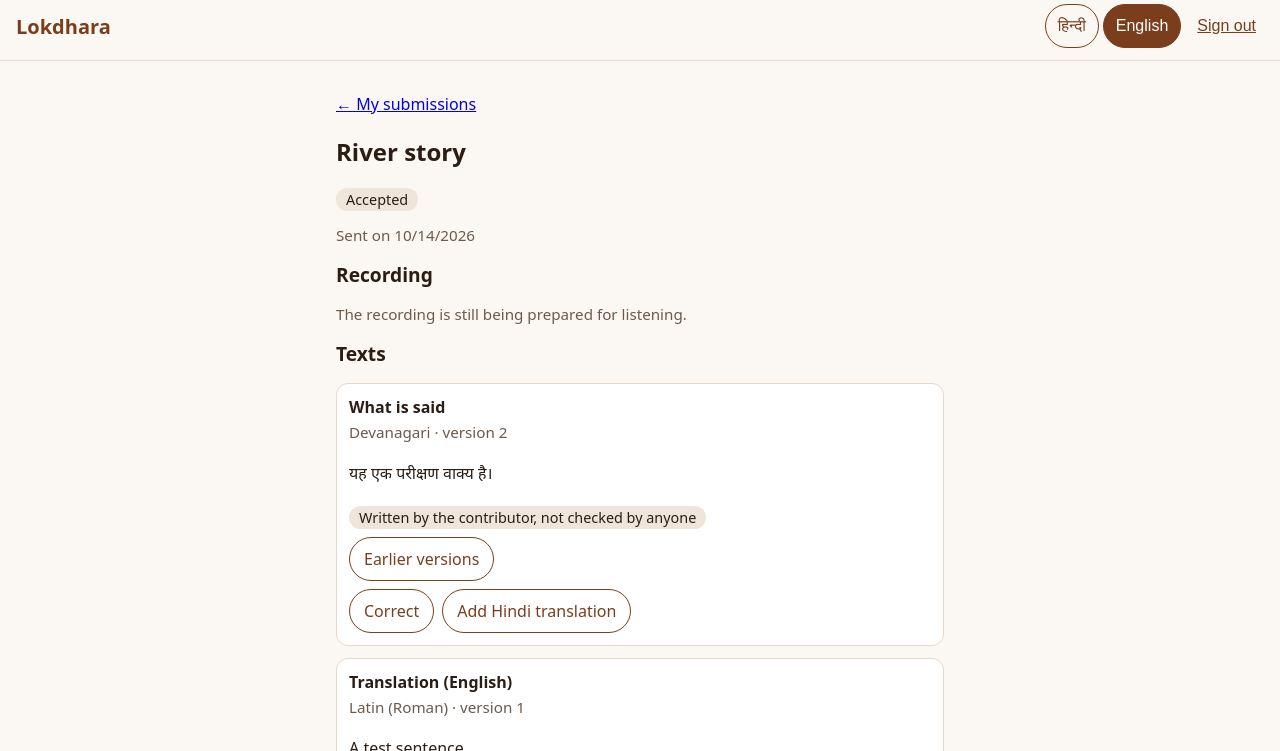
one submission › reloads when someone saved a newer version first
Click the button "Correct". click: (392, 611)
box: [349,589,434,633]
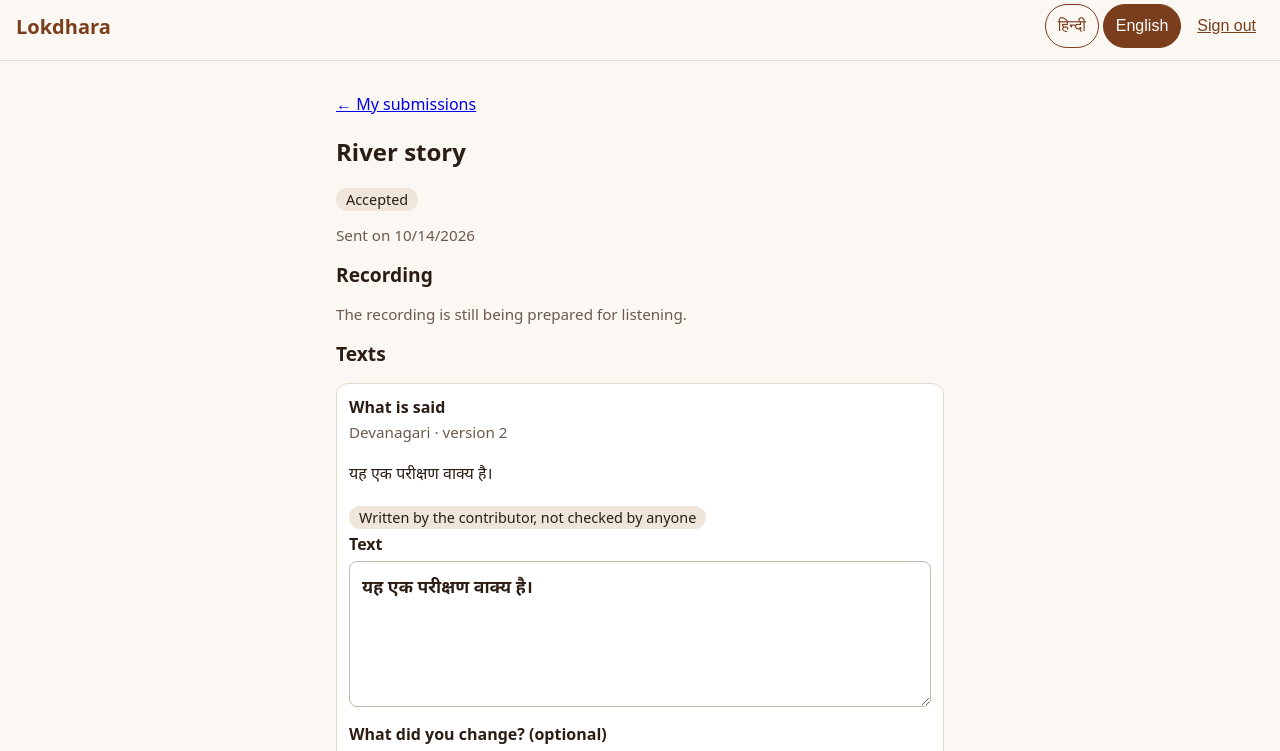
Type " और" into the text box labelled "Text". click: (640, 634)
box: [349,561,931,707]
(page scrolled)
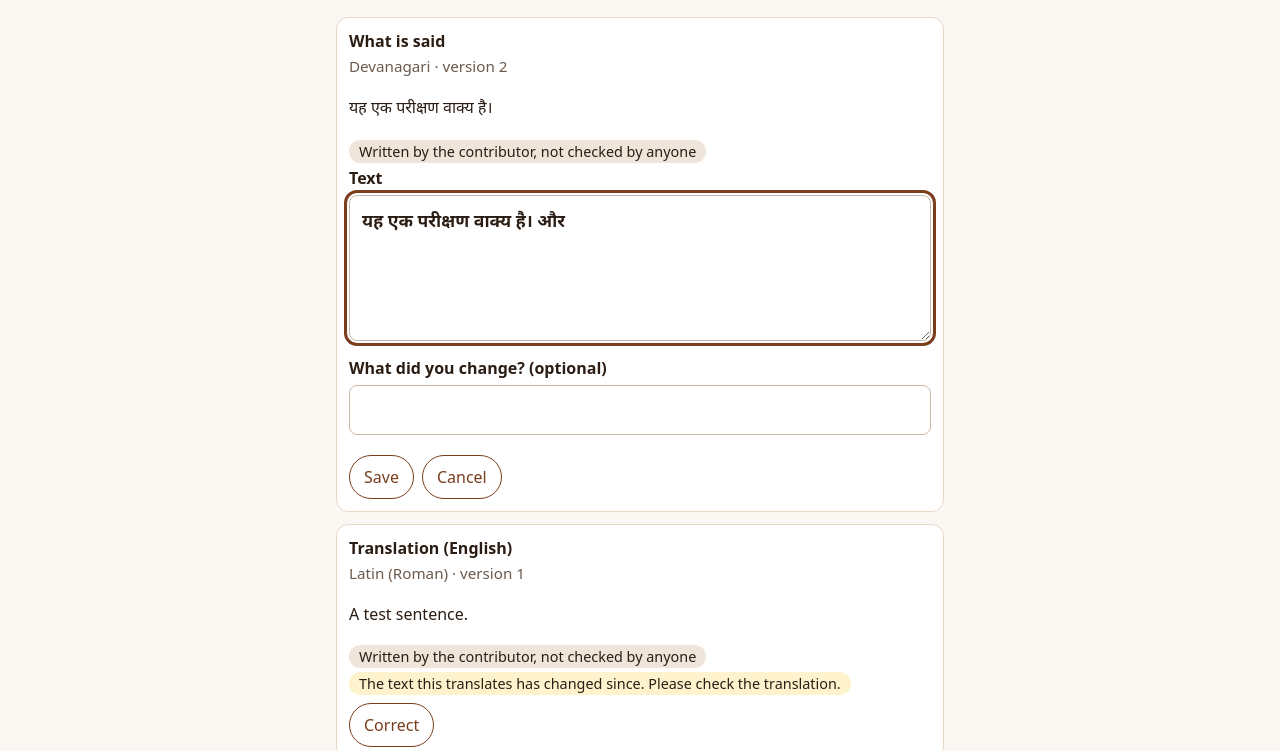
Click the button "Save". click: (381, 477)
box: [349,455,414,499]
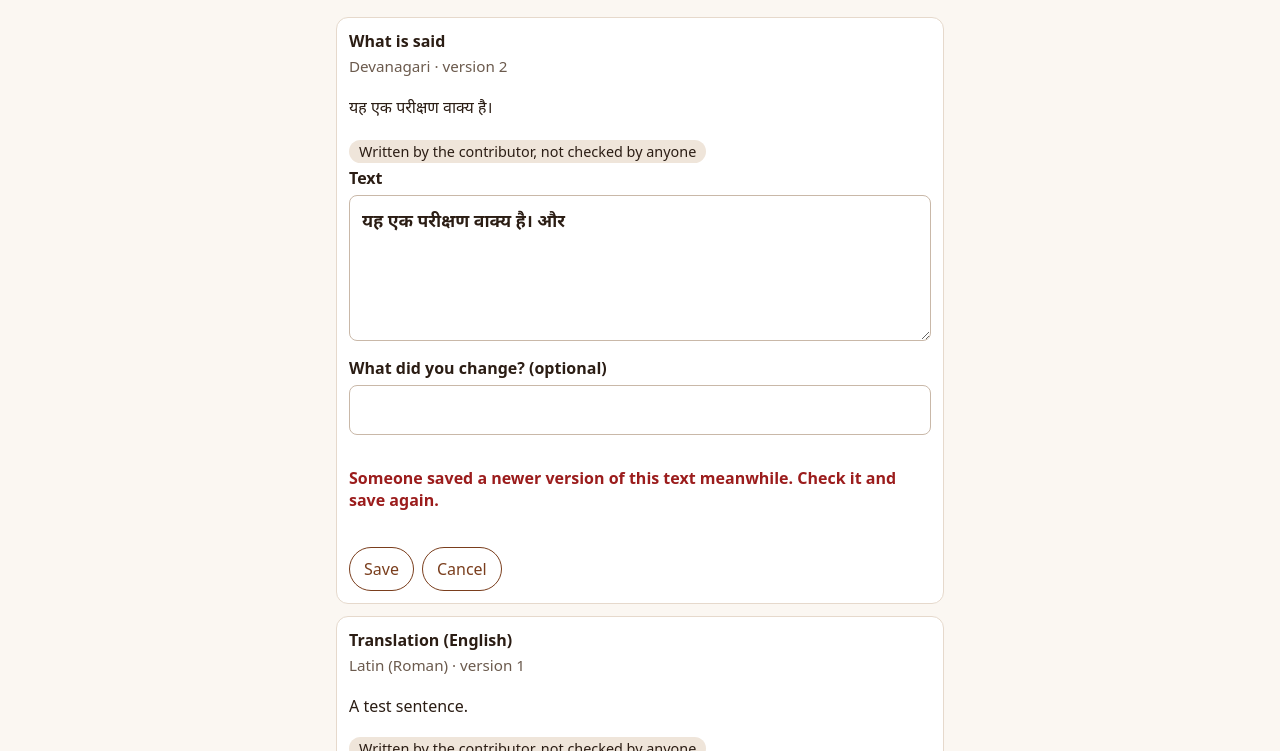
Now the message shows "Someone saved a newer version", box [349,467,896,511]
